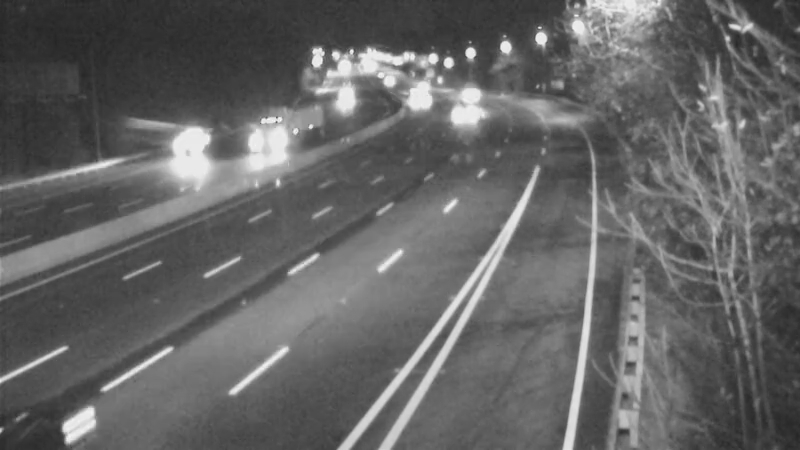vehicle: (361, 56, 411, 106), (448, 72, 498, 122), (394, 75, 444, 125), (430, 91, 480, 141), (160, 121, 210, 171), (242, 113, 292, 163), (322, 68, 372, 118)
